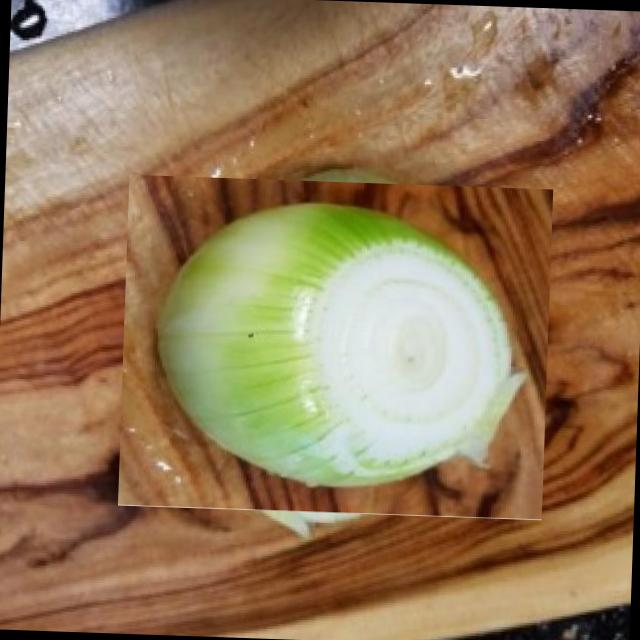Onion: (140, 151, 530, 542)
